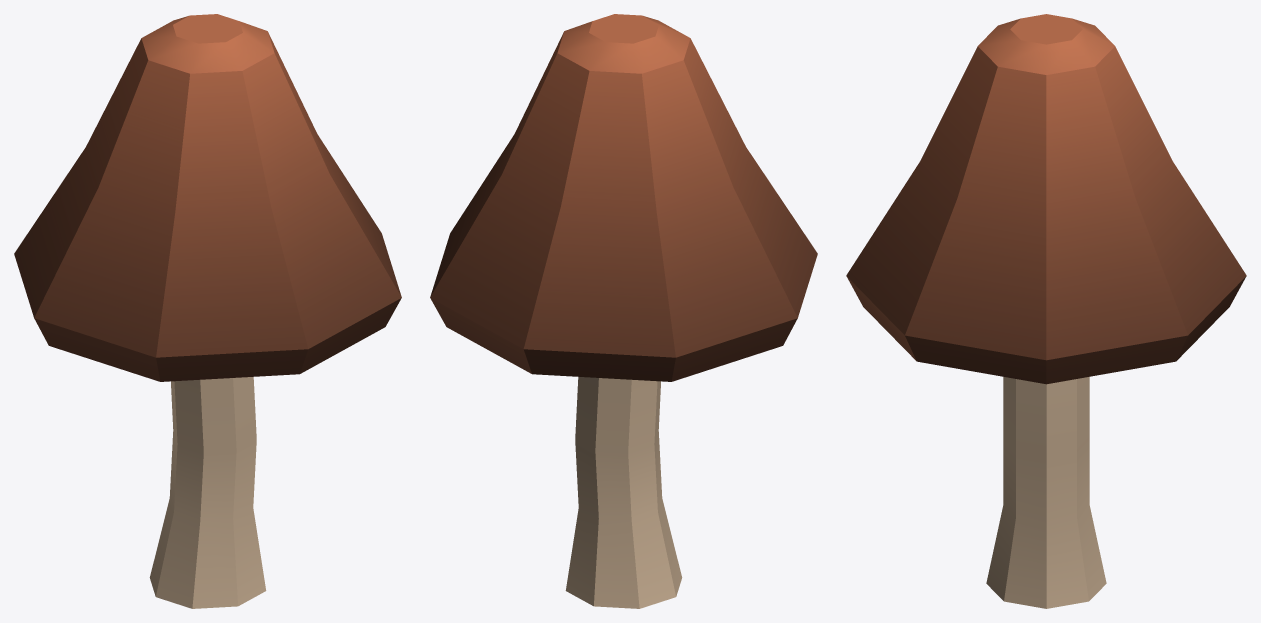
File: Autumn_Mushroom_01.glb
The picture shows the model from 3 angles, left to right: view 1: azimuth 30°, elevation 25°; view 2: azimuth 150°, elevation 25°; view 3: azimuth 270°, elevation 25°; orthographic projection.
Parts seen in each view (by area): view 1: Autumn_Mushroom_01_LOD0; view 2: Autumn_Mushroom_01_LOD0; view 3: Autumn_Mushroom_01_LOD0.
Part boxes in pixels (x1,y1,x2,y2): Autumn_Mushroom_01_LOD0: [14, 14, 401, 608]; Autumn_Mushroom_01_LOD0: [430, 14, 817, 608]; Autumn_Mushroom_01_LOD0: [846, 14, 1246, 608].
Size of what is drawn, in the model's own units: 0.1725 by 0.2633 by 0.1725.
Materials: 1 (1 with a texture image).
